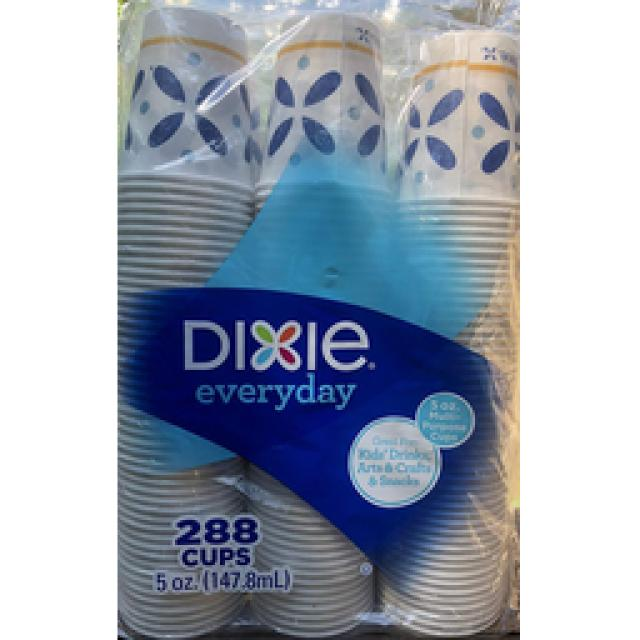paper_cups: (121, 6, 262, 208), (402, 25, 519, 220)
